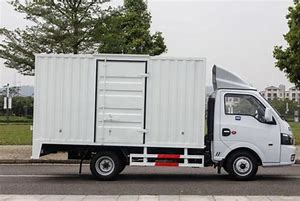smalltruck: (21, 39, 297, 183)
